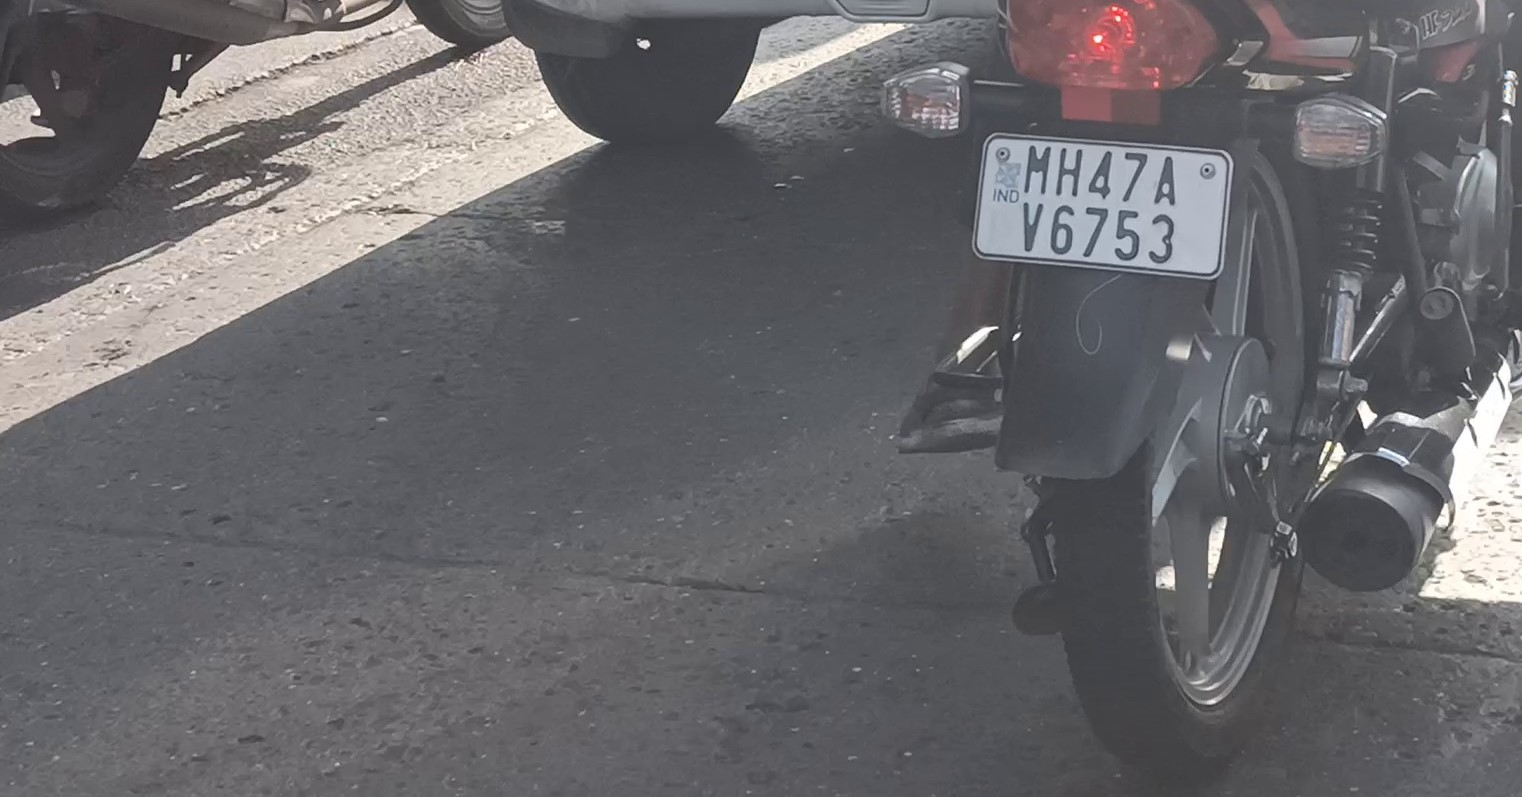MH47AV6753: (975, 139, 1226, 275)
